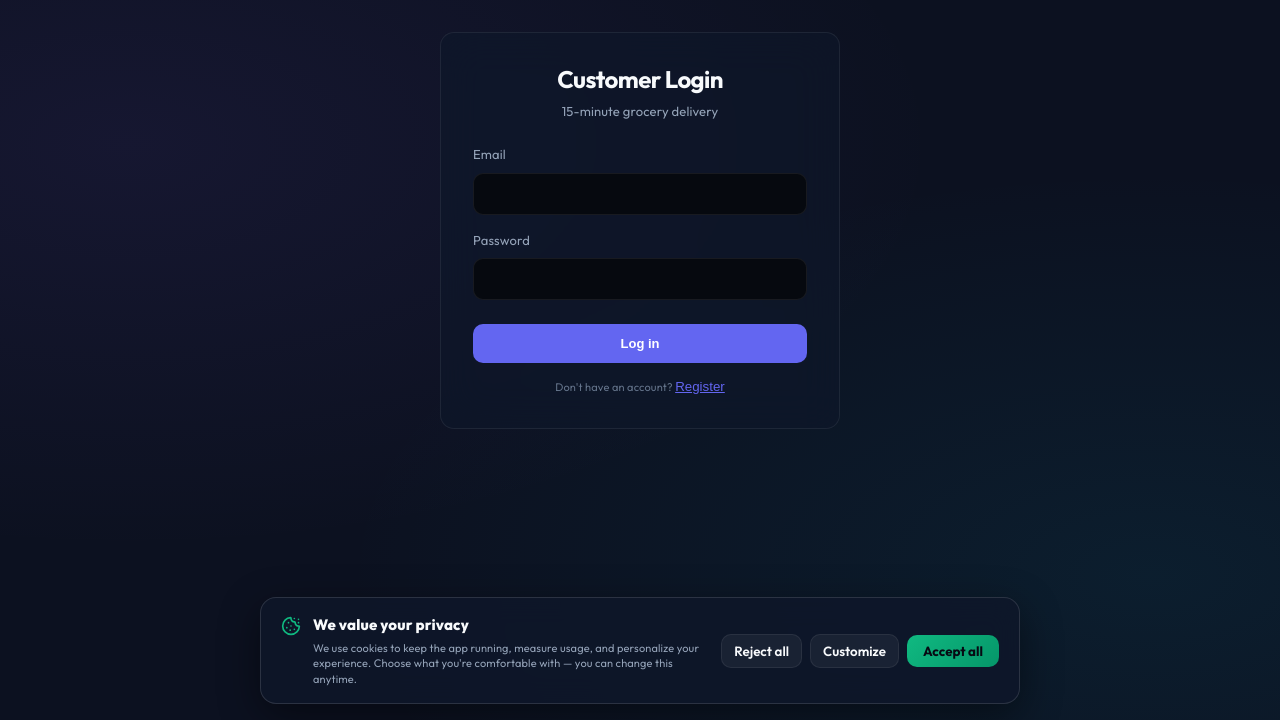
Scenario: Consent Management — Preferences dialog via Customize › saves custom preferences correctly
Click the button "Customize" at (855, 651), box x1=810 y1=634 x2=899 y2=668
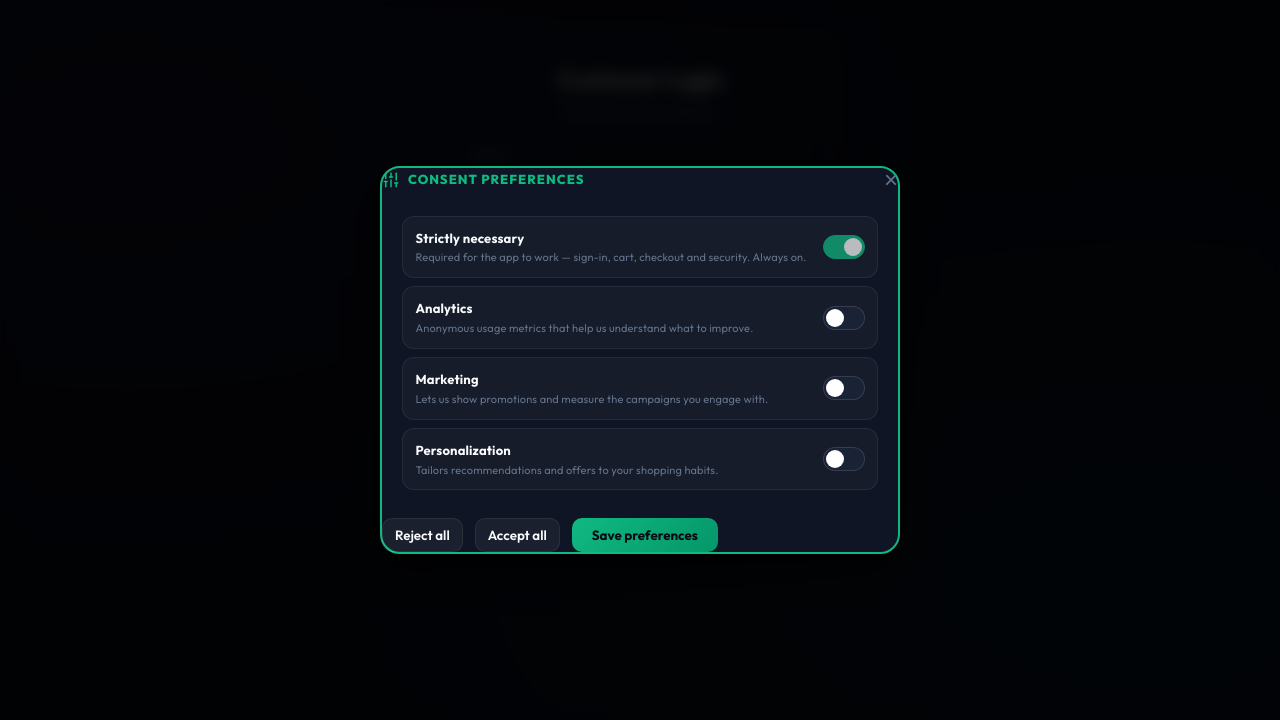
Result: the heading "Consent Preferences" is shown at x1=382 y1=170 x2=584 y2=188
Click the switch named "Analytics" at (844, 318), box x1=823 y1=306 x2=865 y2=330
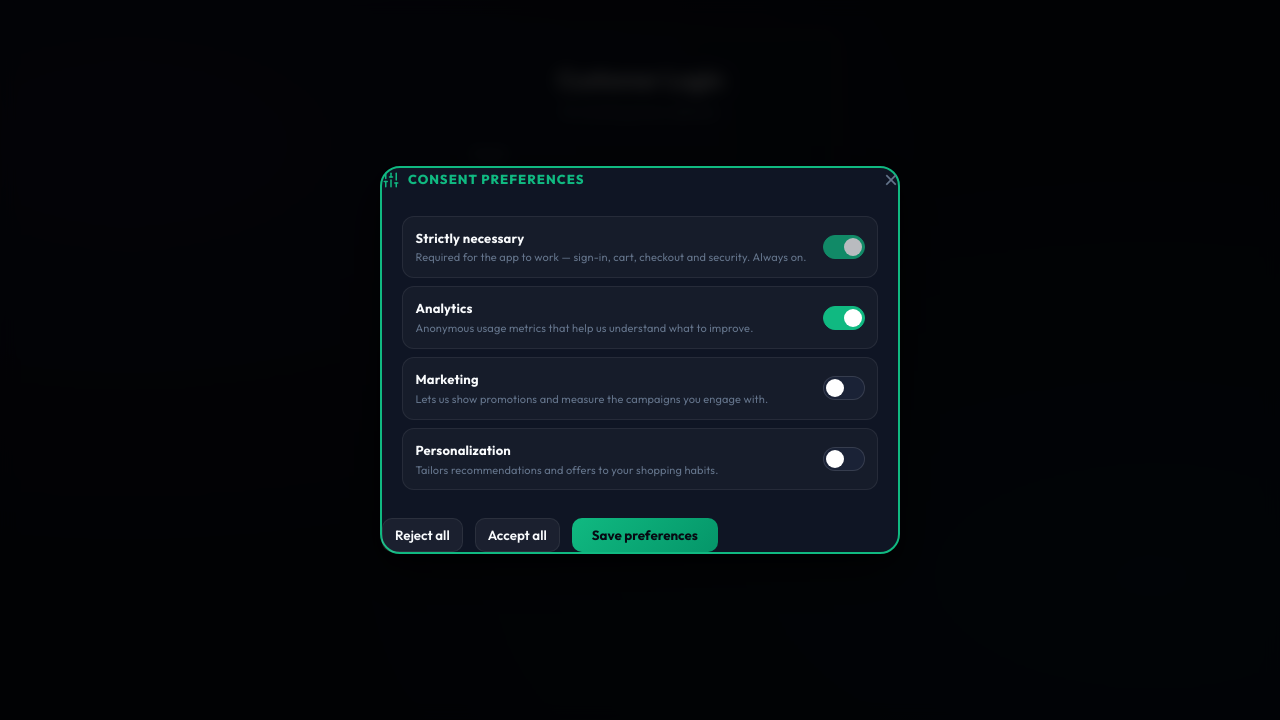
Result: the switch named "Analytics" is checked at x1=823 y1=306 x2=865 y2=330
Click the switch named "Personalization" at (844, 459), box x1=823 y1=447 x2=865 y2=471
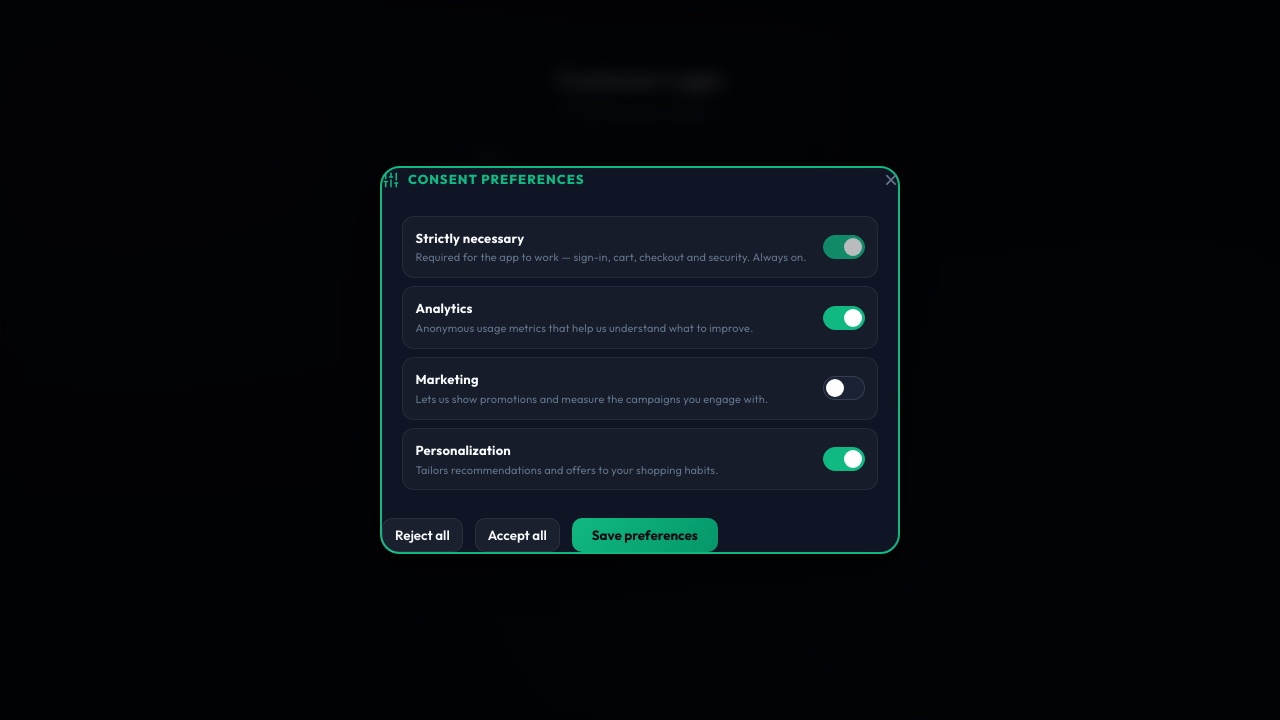
Click the button "Save preferences" at (645, 536), box x1=572 y1=519 x2=718 y2=553
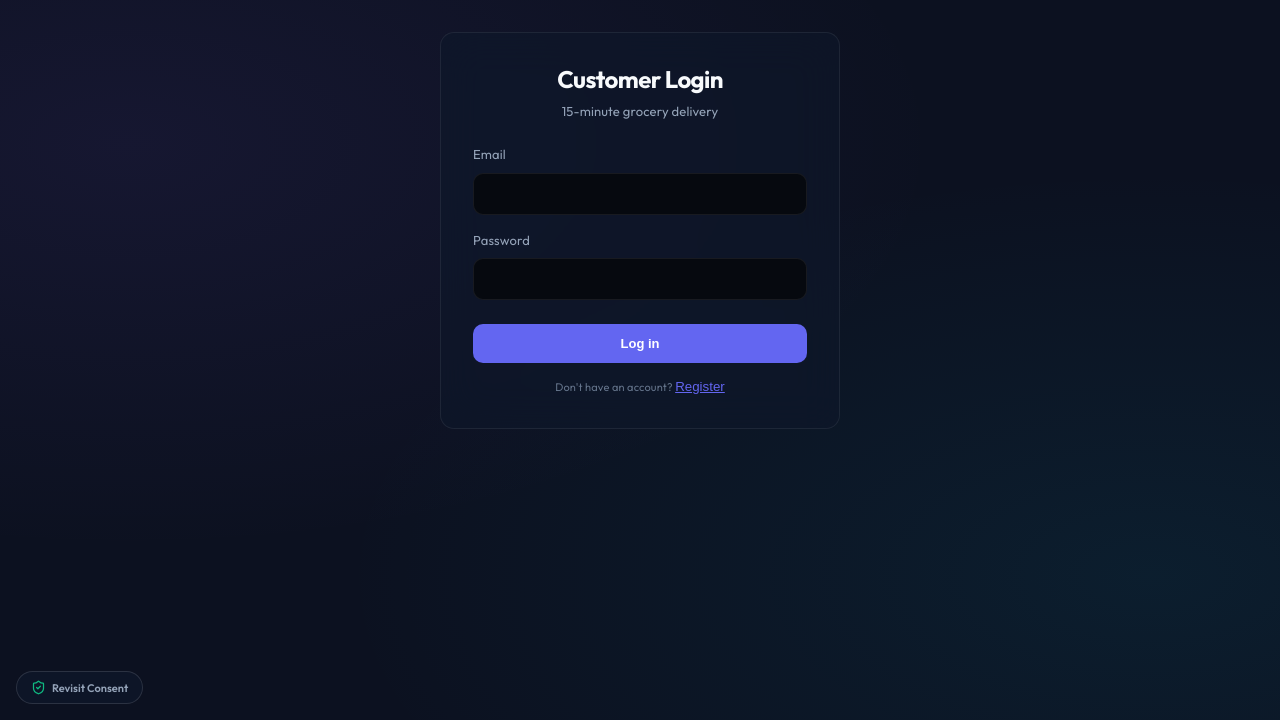
Result: the heading "Consent Preferences" is gone
